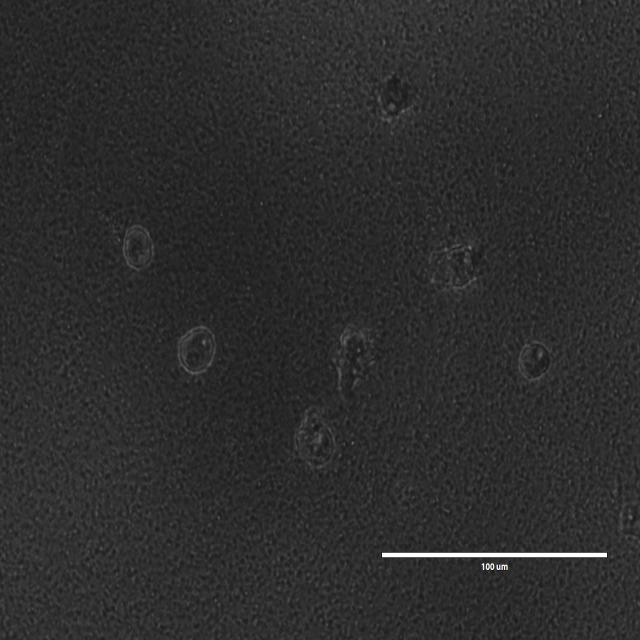Amoeba: (292, 410, 340, 474), (334, 332, 374, 406), (432, 245, 488, 296), (375, 69, 420, 124), (176, 326, 217, 376), (120, 224, 156, 272), (611, 478, 640, 537), (522, 341, 555, 384)
